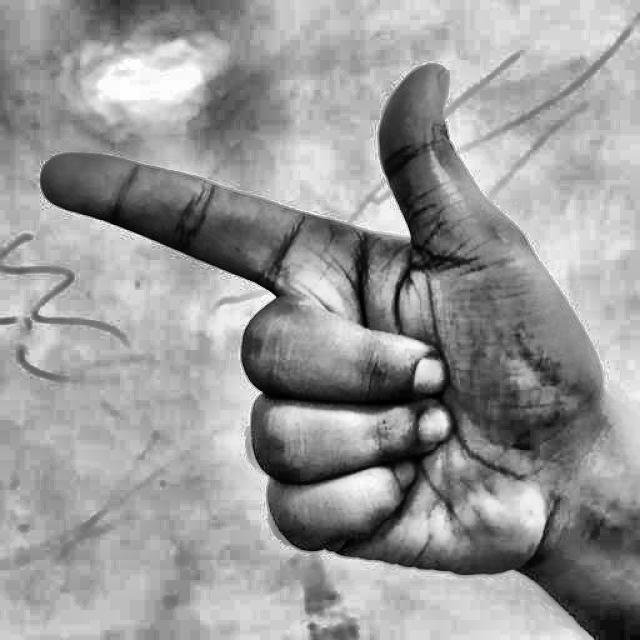Tha: (32, 38, 603, 618)
